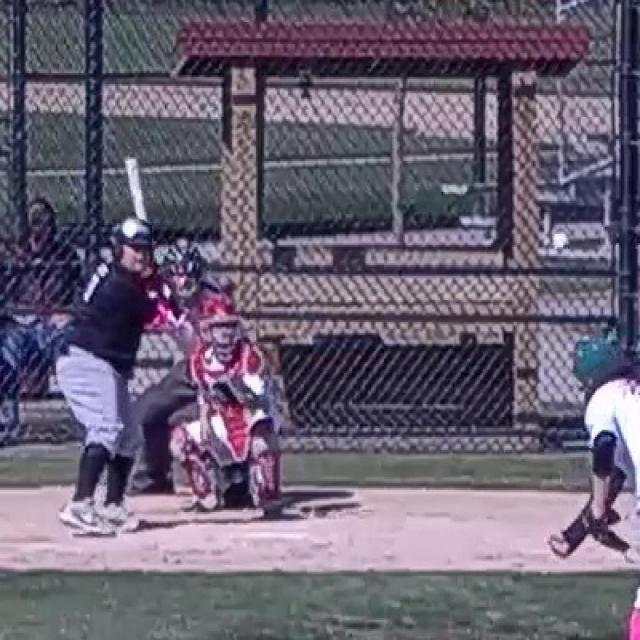baseball: (554, 234, 568, 249)
